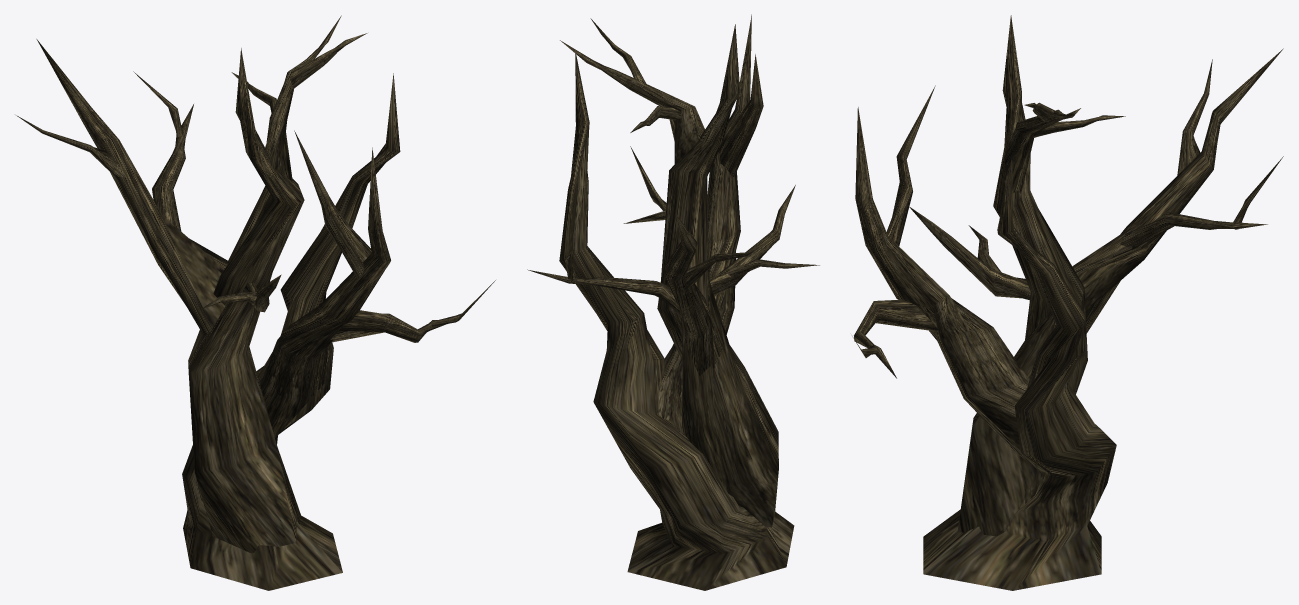
3 views of the same model, side by side, from view 1: azimuth 30°, elevation 25°; view 2: azimuth 150°, elevation 25°; view 3: azimuth 270°, elevation 25° (orthographic). The views are drawn at different scales.
Visible parts, largest first — view 1: SMDImport; view 2: SMDImport; view 3: SMDImport.
Boxes of the visible parts, x1,y1,x2,y2 form: SMDImport: (16, 15, 495, 590); SMDImport: (527, 14, 819, 590); SMDImport: (852, 15, 1283, 590).
Bounding box in the file's own units: 356 × 561 × 418.
